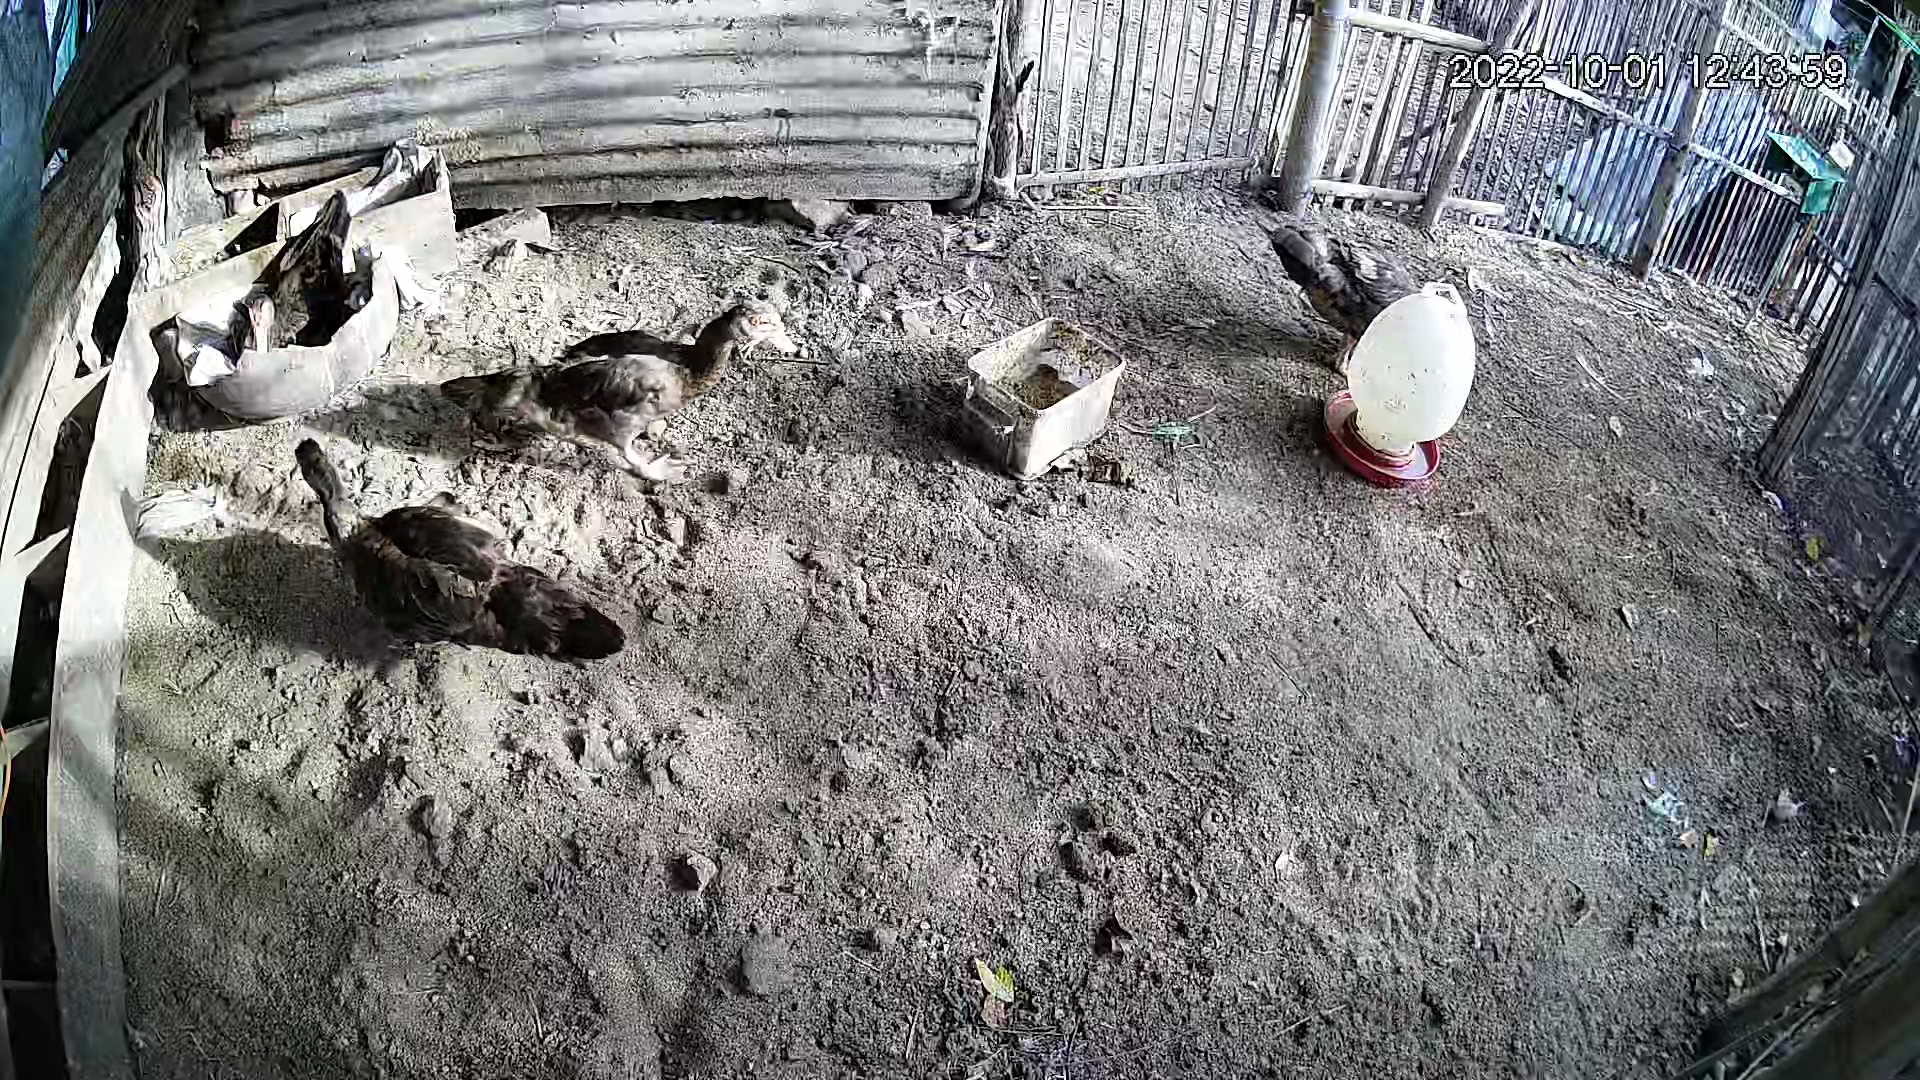Mengeram: (145, 189, 407, 422)
